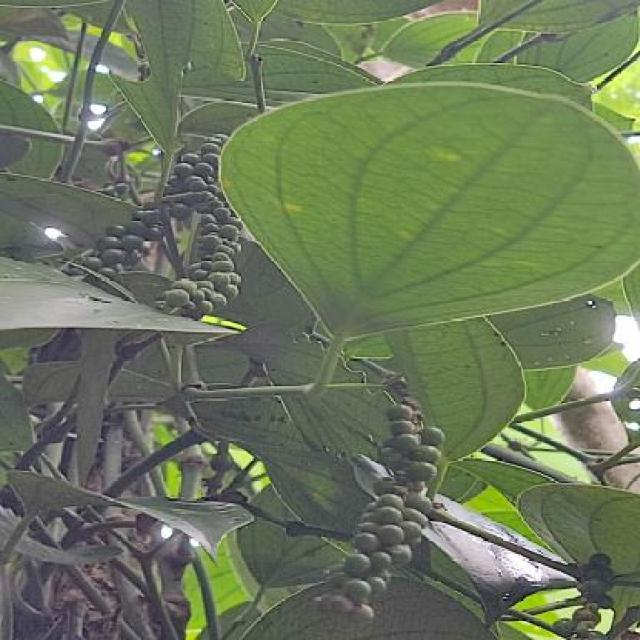UNRIPE: (85, 134, 243, 320), (328, 396, 446, 622), (551, 554, 617, 635)
